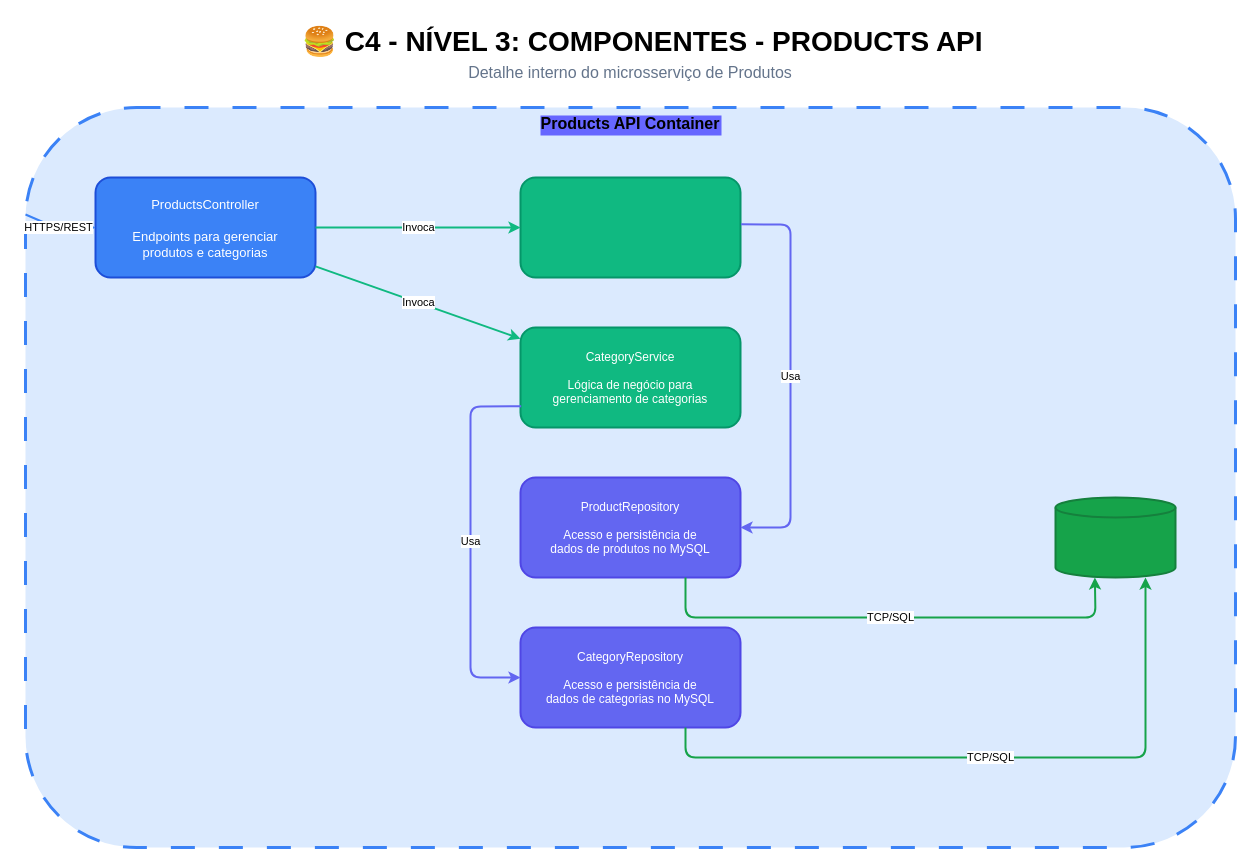
This 1254x866 diagram has some shape labels left out. The box of each missing label's shape, as (x1, y1, x2, y2) in pixels:
MySQL (Products DB): (1054, 496, 1176, 578)
ProductService Lógica de negócio para cadastro e consulta de produtos: (519, 176, 741, 278)
